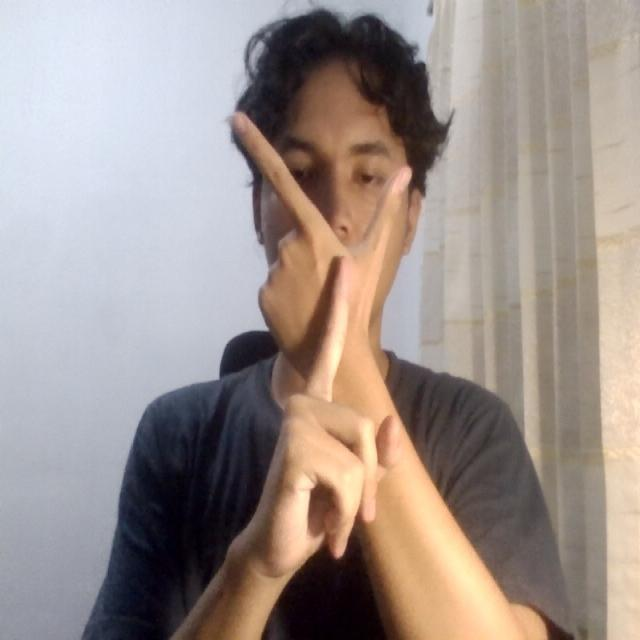No: (206, 98, 454, 582)
